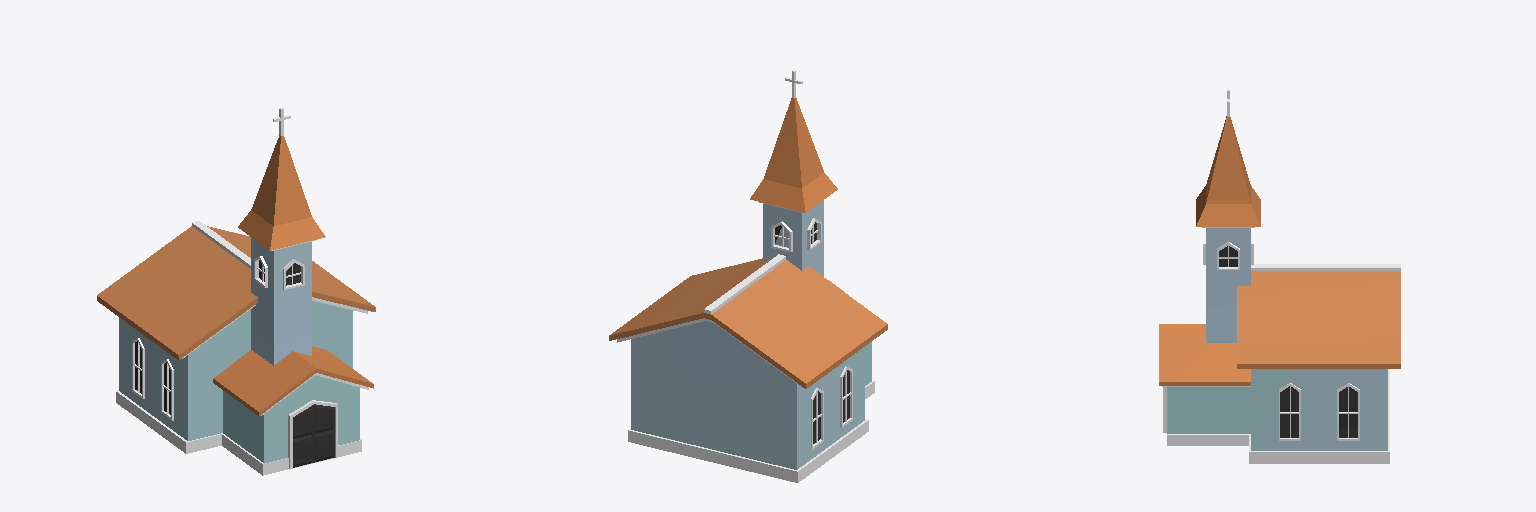
3 views of the same model, side by side, from view 1: azimuth 30°, elevation 25°; view 2: azimuth 150°, elevation 25°; view 3: azimuth 270°, elevation 25° (orthographic).
Parts seen in each view (by area): view 1: Cube.003_Cube.001; view 2: Cube.003_Cube.001; view 3: Cube.003_Cube.001.
Boxes of the visible parts, <box> form: Cube.003_Cube.001: <box>97,108,375,475</box>; Cube.003_Cube.001: <box>609,70,887,482</box>; Cube.003_Cube.001: <box>1159,89,1400,463</box>.
Bounding box in the file's own units: 18.98 × 30.53 × 20.16.
Materials: 1 (1 with a texture image).